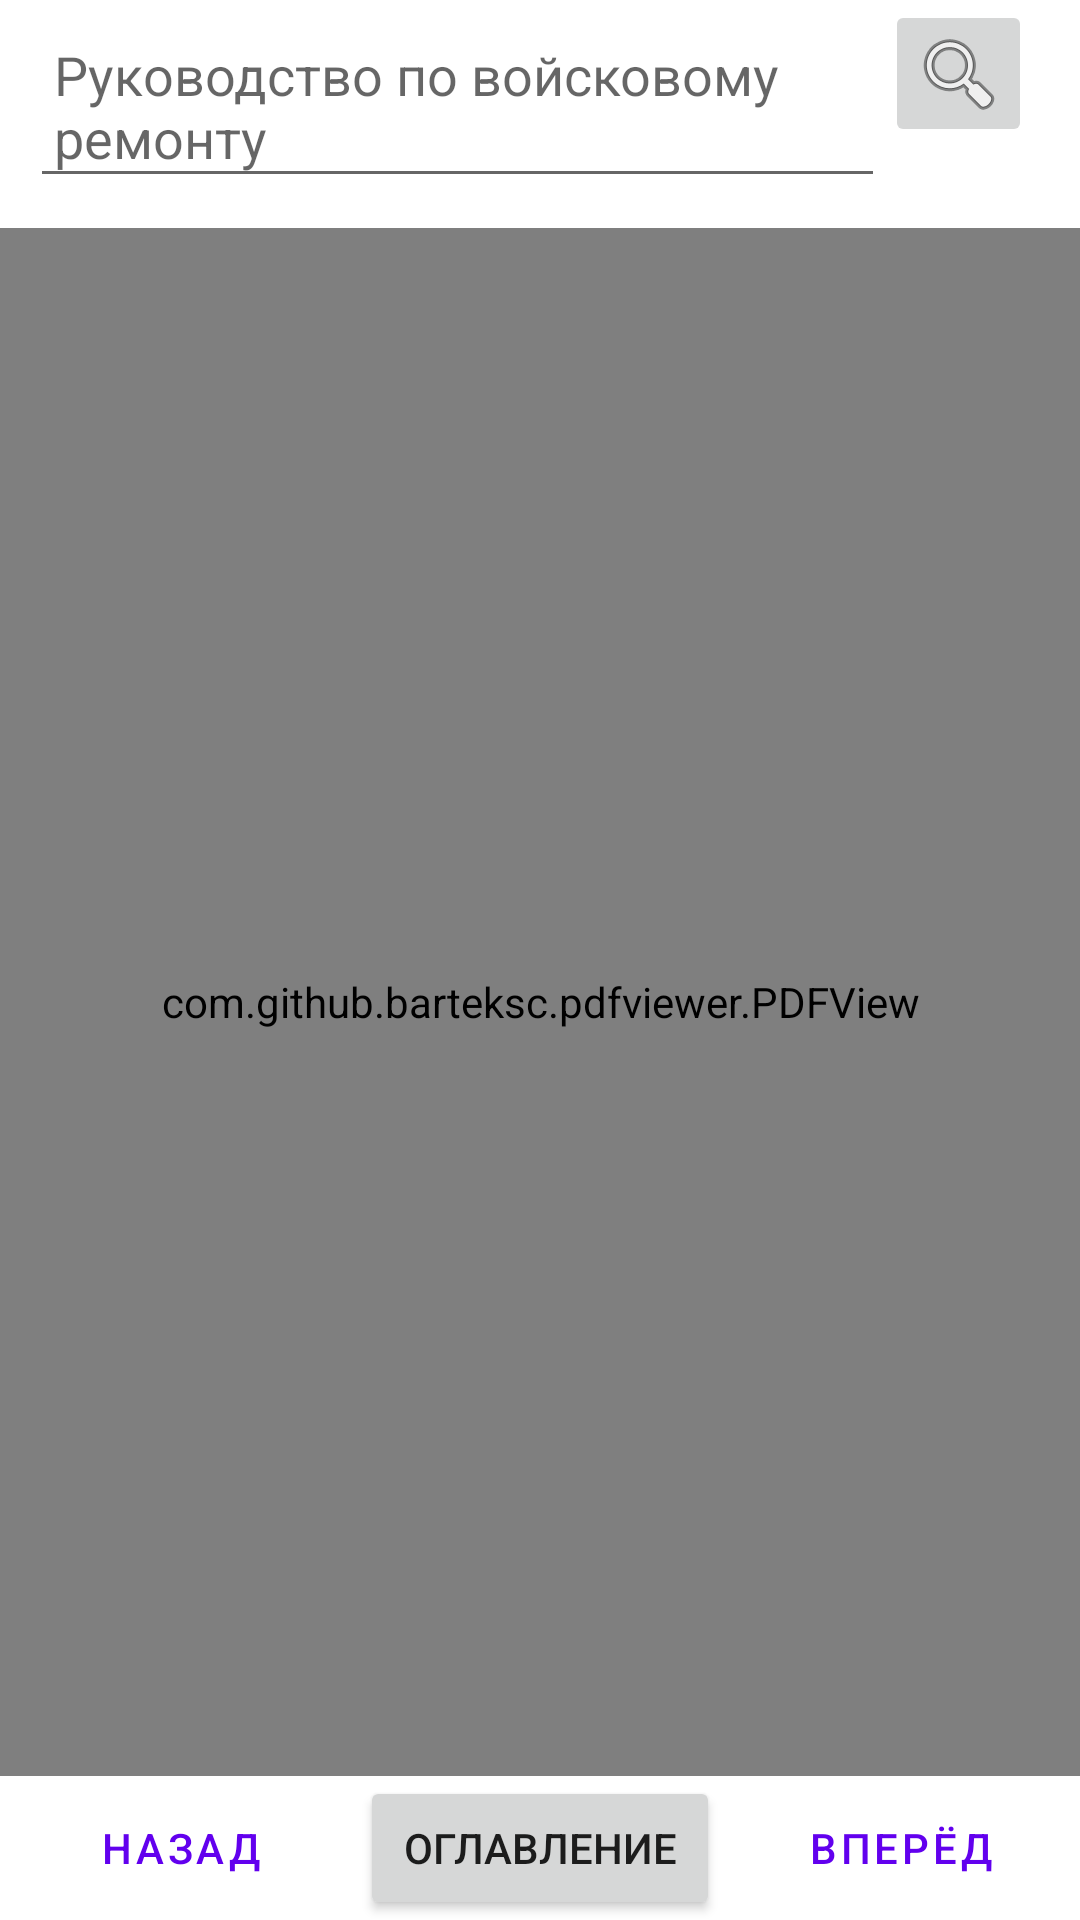

Locate icon controls on the screen. Image size 1080 × 1920, boxes as bbox=(x1, y1, x2, y2).
search: bbox=(897, 18, 1020, 129)
